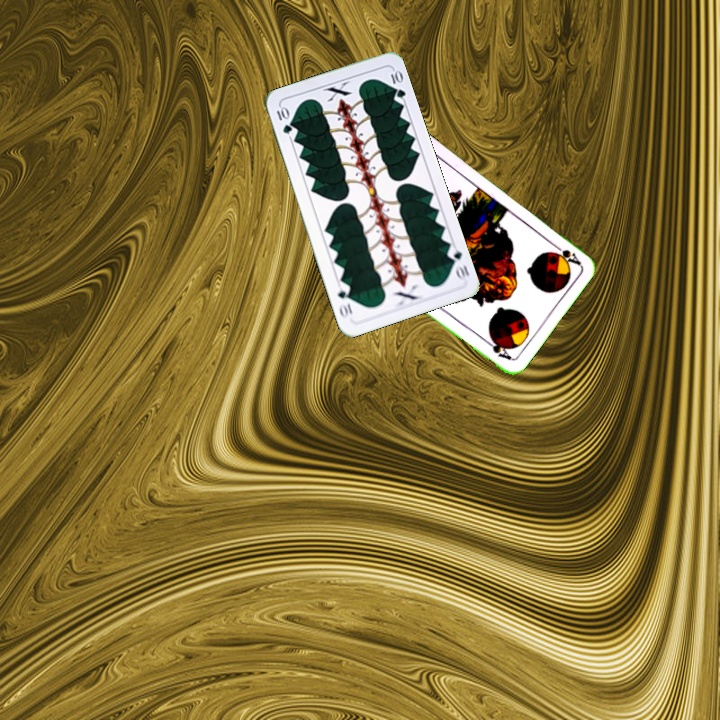G10: (443, 242, 472, 283), (272, 103, 295, 137)
SA: (547, 238, 583, 268)
